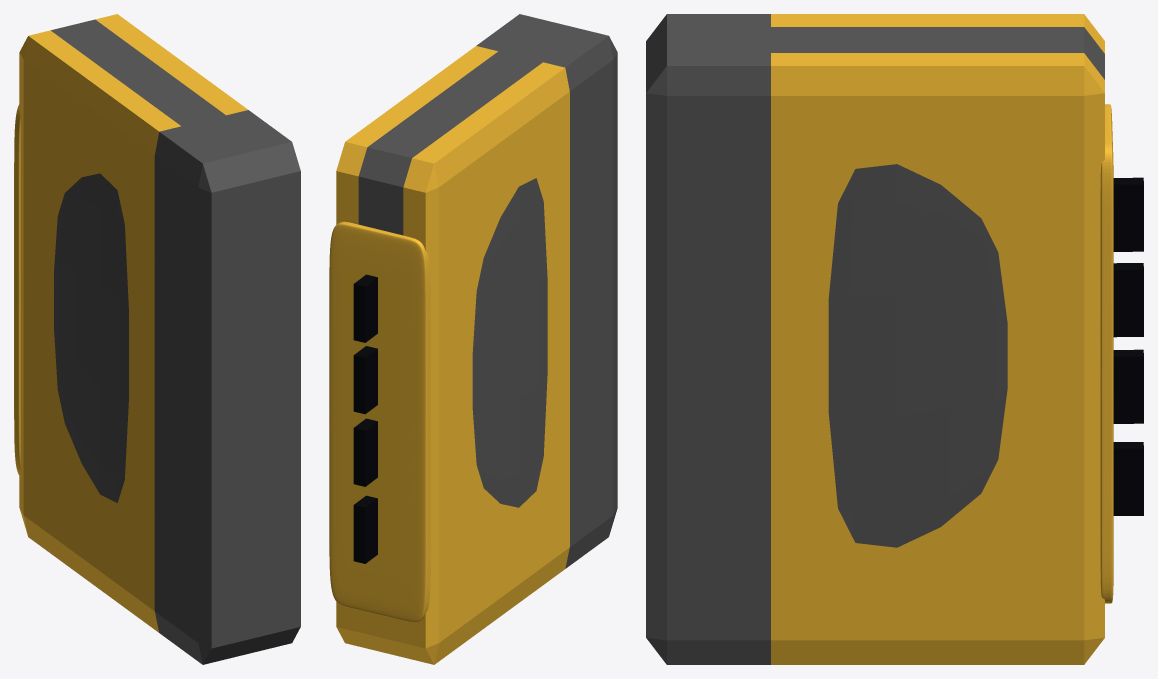
The model's file is Button.fbx.
3 views of the same model, side by side, from view 1: azimuth 30°, elevation 25°; view 2: azimuth 150°, elevation 25°; view 3: azimuth 270°, elevation 25° (orthographic). The views are drawn at different scales.
Visible parts, largest first — view 1: Walkman Body, PlaySync, Button Plate; view 2: Walkman Body, Button Plate, PlaySync, Button; view 3: Walkman Body, PlaySync, Button, Button Plate.
Boxes of the visible parts, x1=… form: Walkman Body: x1=19, y1=14, x2=300, y2=664; PlaySync: x1=54, y1=173, x2=128, y2=502; Button Plate: x1=14, y1=104, x2=20, y2=474; Walkman Body: x1=336, y1=14, x2=617, y2=664; Button Plate: x1=329, y1=221, x2=430, y2=622; PlaySync: x1=472, y1=178, x2=547, y2=507; Button: x1=353, y1=274, x2=377, y2=563; Walkman Body: x1=646, y1=14, x2=1104, y2=664; PlaySync: x1=828, y1=164, x2=1007, y2=547; Button: x1=1113, y1=177, x2=1143, y2=515; Button Plate: x1=1100, y1=104, x2=1113, y2=603.
Bounding box in the file's own units: 96.93 × 446 × 336.
